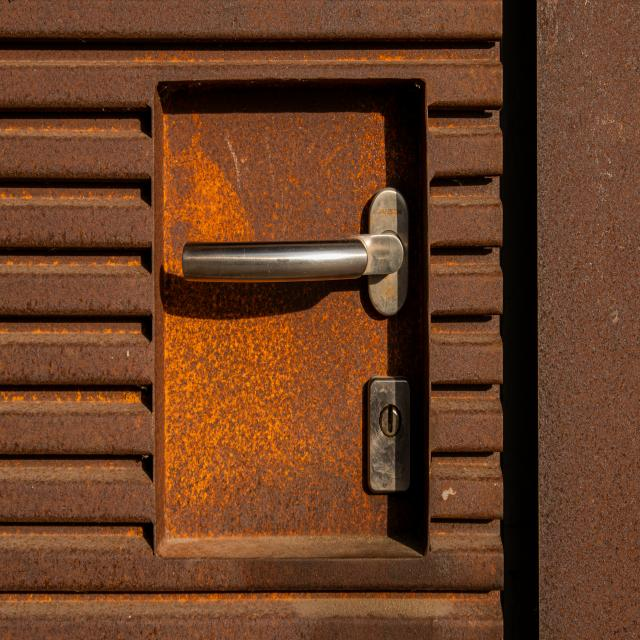door-handle: (182, 187, 409, 315)
